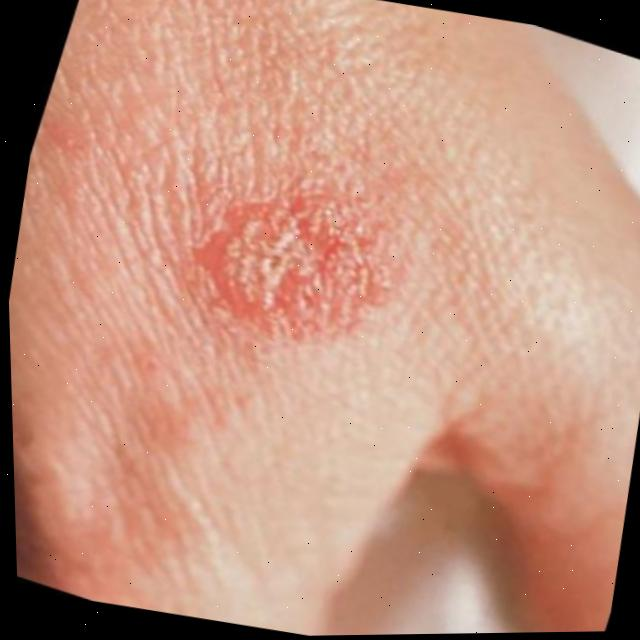Eczema: (181, 154, 408, 362)
